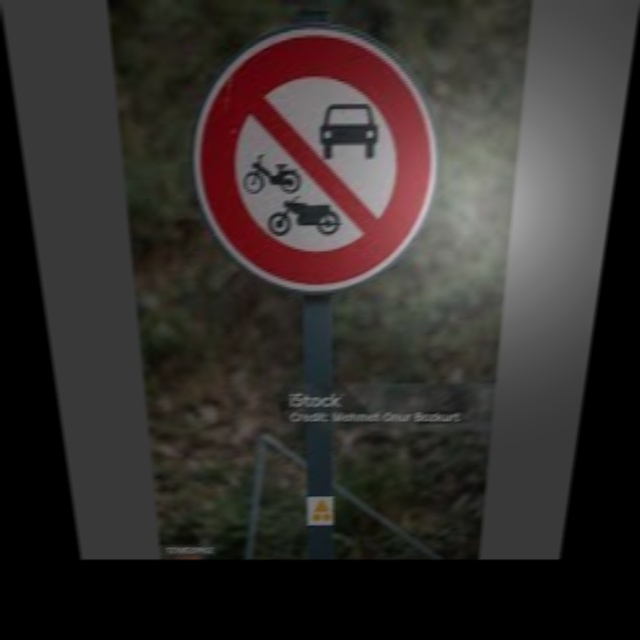All_Motor_Vehicles_Prohibited: (184, 23, 441, 289)
